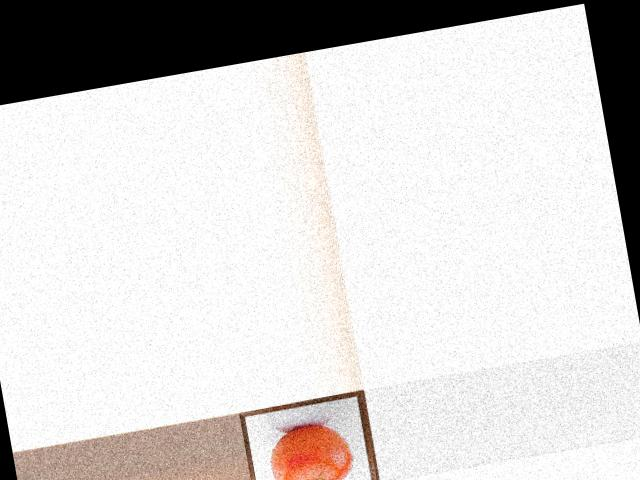tomato: (266, 418, 357, 480)
